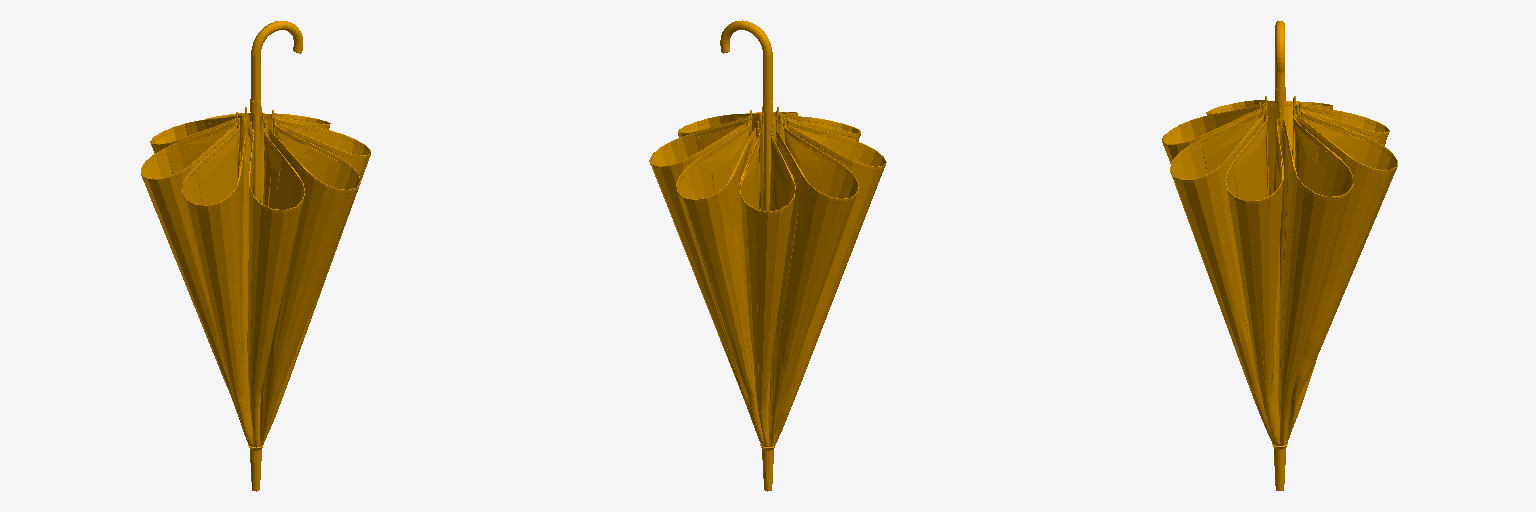
robot.urdf — none:
<robot name="none">
       <link name="none">
           <visual>
               <origin rpy="1.57 0 0" xyz="0 0 0" />
               <geometry>
                   <mesh filename="umbrellaFolded.obj" />
               </geometry>
           </visual>
          <collision>
              <geometry>
                  <box size="0.447408 1.000000 0.446697" />
              </geometry>
          </collision>

          <inertial>
            <mass value="0.0" />
            <inertia ixx="0.0" ixy="0.0" ixz="0.0" iyy="0.0" iyz="0.0" izz="0.0" />
          </inertial>
      </link>
  </robot>

--- Render facts (derived) ---
Views: 3 orthographic renders of the robot side by side, from view 1: azimuth 30°, elevation 25°; view 2: azimuth 150°, elevation 25°; view 3: azimuth 270°, elevation 25°.
Model none with 1 links and 0 joints (none), rooted at none, posed all joints at 0.
Visible links, largest first — view 1: none; view 2: none; view 3: none.
Link boxes in pixels (bbox=[...]): none: bbox=[141, 21, 370, 491]; none: bbox=[649, 20, 886, 491]; none: bbox=[1162, 21, 1397, 490].
Size in the robot's own frame: 0.4474 by 0.4467 by 1 metres.
Meshes: 1 distinct files referenced, 1 mesh visuals loaded (1 OBJ).